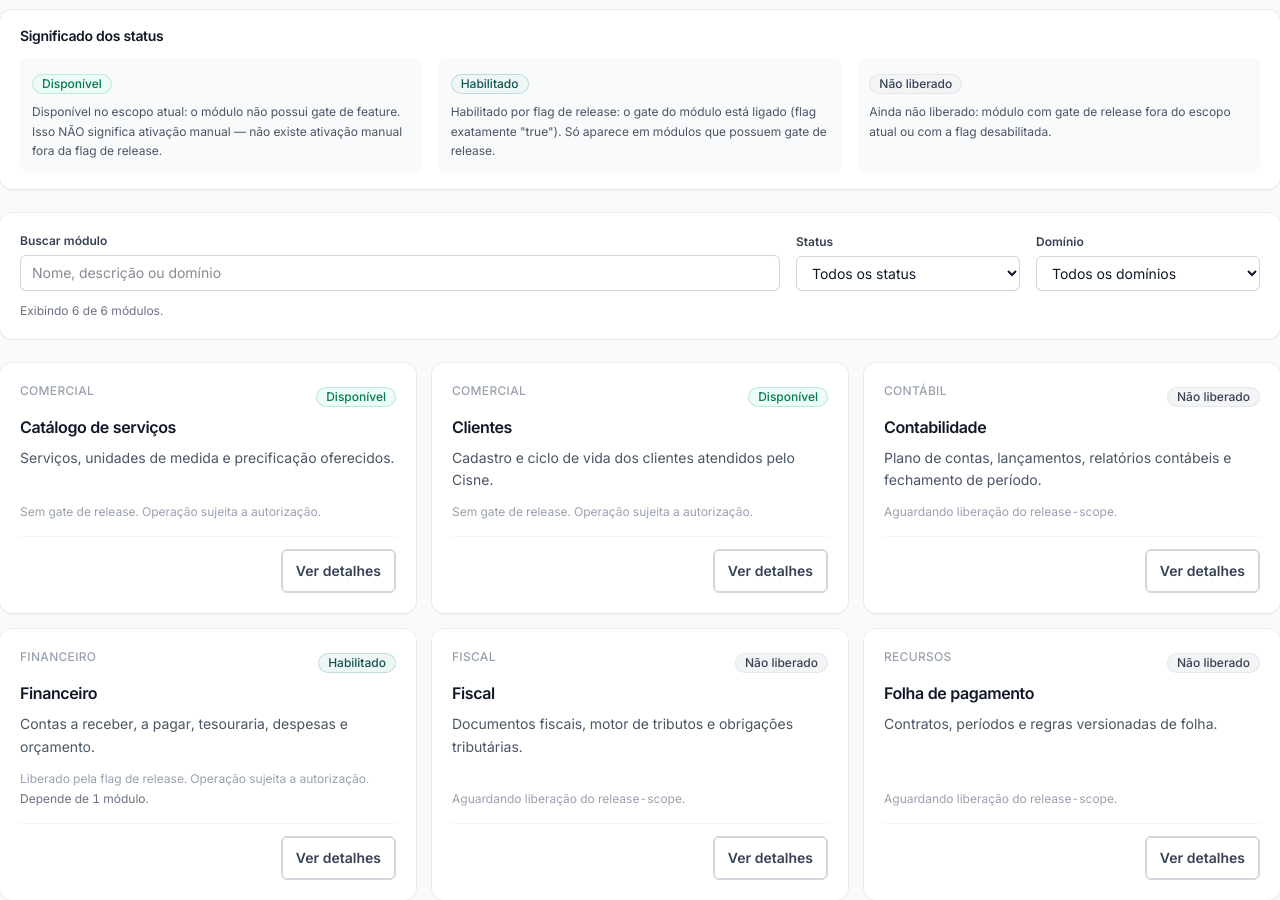
ModulesRegistryPage — governança do registry › shows a restricted note when the detail endpoint denies access (403)
The width and height of the screenshot is (1280, 900).
(page scrolled)
Click the 5th button "Ver detalhes" at (770, 858), box [713,836,828,880]
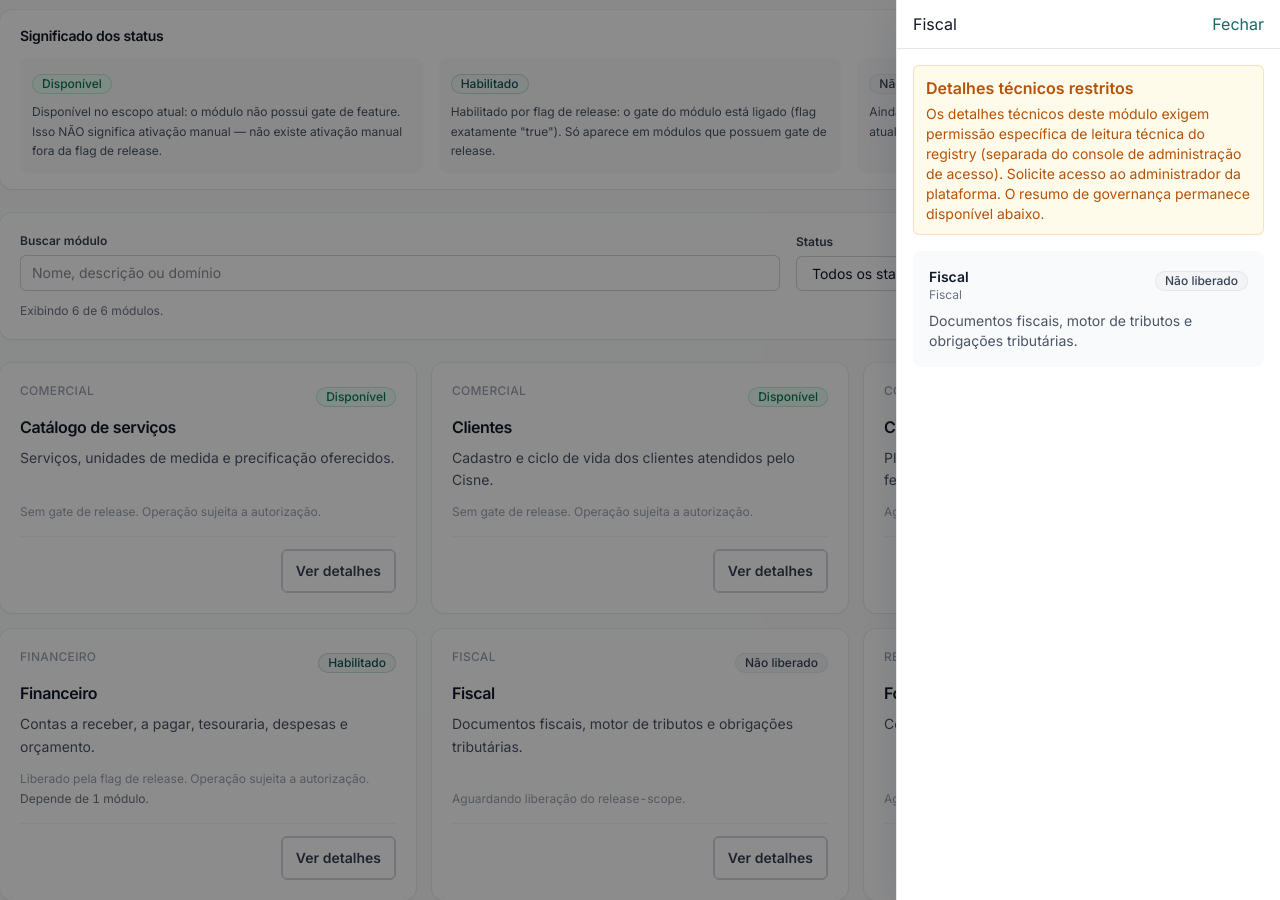
Now the heading "Detalhes técnicos restritos" is shown, box [926,78,1133,98]
Now the text "separada do console de administração de acesso" is shown, box [926,105,1250,222]
Now the text "Documentos fiscais" is shown, box [929,312,1192,349]
